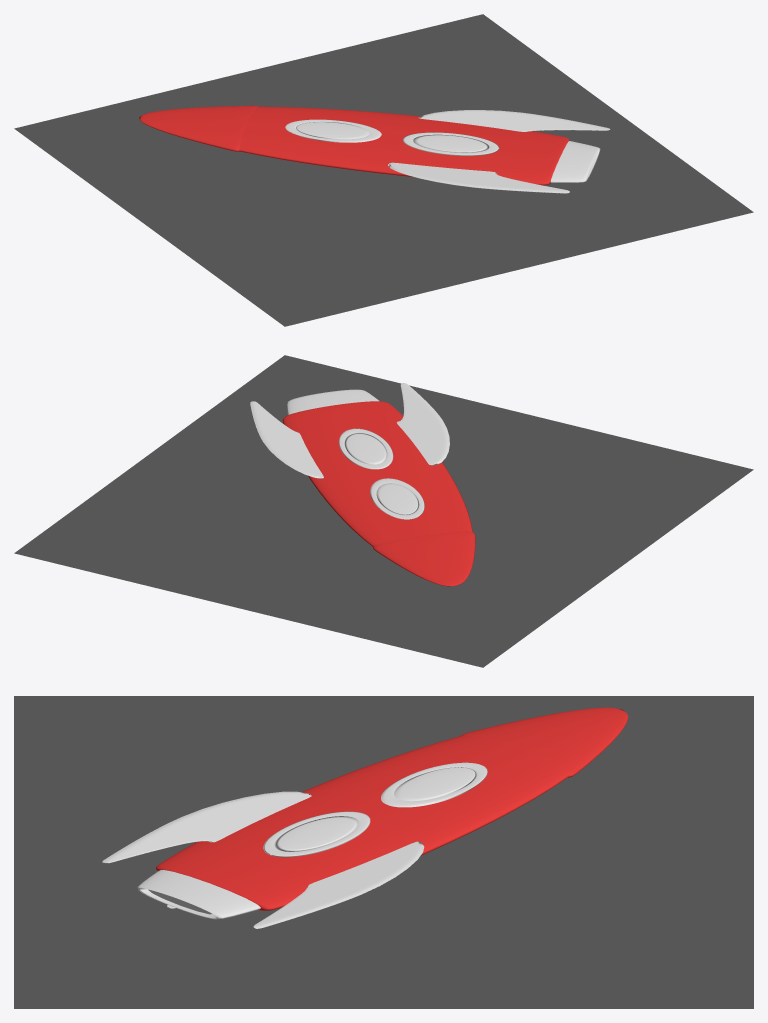
File: cosmic_base.glb
3 renders of one model, top to bottom at view 1: azimuth 30°, elevation 25°; view 2: azimuth 150°, elevation 25°; view 3: azimuth 270°, elevation 25°, orthographic. The views are drawn at different scales.
Parts seen in each view (by area): view 1: Rectangle, Body White, Cosmodrome, Up, bottom, Shape, Cylinder 2.001, Cylinder 2, Cylinder, Cylinder.001; view 2: Rectangle, Body White, Up, Cosmodrome, Shape, bottom, Cylinder 2, Cylinder 2.001, Cylinder, Cylinder.001; view 3: Rectangle, Body White, Cosmodrome, Up, Shape, bottom, Cylinder 2.001, Cylinder 2, Cylinder, Cylinder.001.
Part boxes in pixels (x1,y1,x2,y2): Rectangle: (14,14,753,326); Body White: (239,106,569,185); Cosmodrome: (388,110,610,193); Up: (139,105,258,151); bottom: (550,141,600,182); Shape: (419,110,609,130); Cylinder 2.001: (413,134,489,152); Cylinder 2: (295,121,369,139); Cylinder: (285,119,381,142); Cylinder.001: (402,132,499,155); Rectangle: (14,355,753,667); Body White: (282,401,472,546); Up: (373,531,475,586); Cosmodrome: (251,383,449,466); Shape: (250,401,323,478); bottom: (287,389,379,414); Cylinder 2: (376,483,419,515); Cylinder 2.001: (344,432,387,464); Cylinder: (370,478,424,519); Cylinder.001: (339,428,393,469); Rectangle: (14,696,753,1008); Body White: (156,735,568,910); Cosmodrome: (102,791,419,928); Up: (461,707,628,777); Shape: (253,841,424,928); bottom: (137,870,260,919); Cylinder 2.001: (274,816,358,851); Cylinder 2: (394,767,477,801); Cylinder: (381,762,487,807); Cylinder.001: (263,811,370,857).
Bounding box in the file's own units: 4 × 0.2863 × 4.
